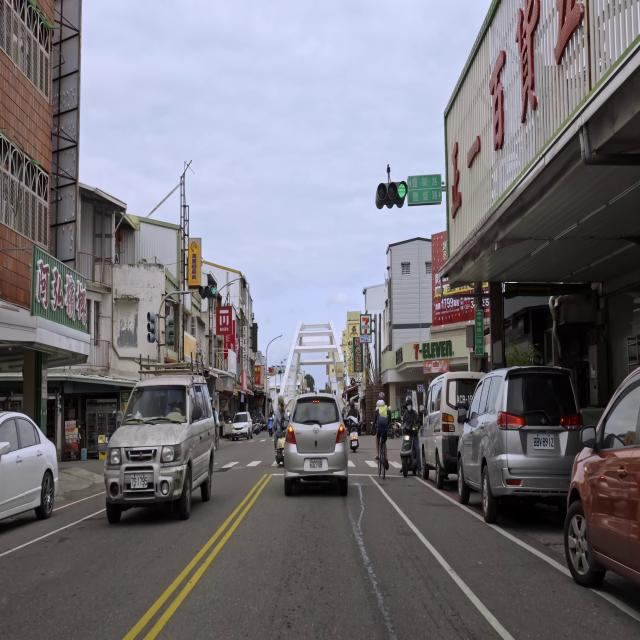green light: (376, 182, 407, 200), (198, 286, 216, 296)
